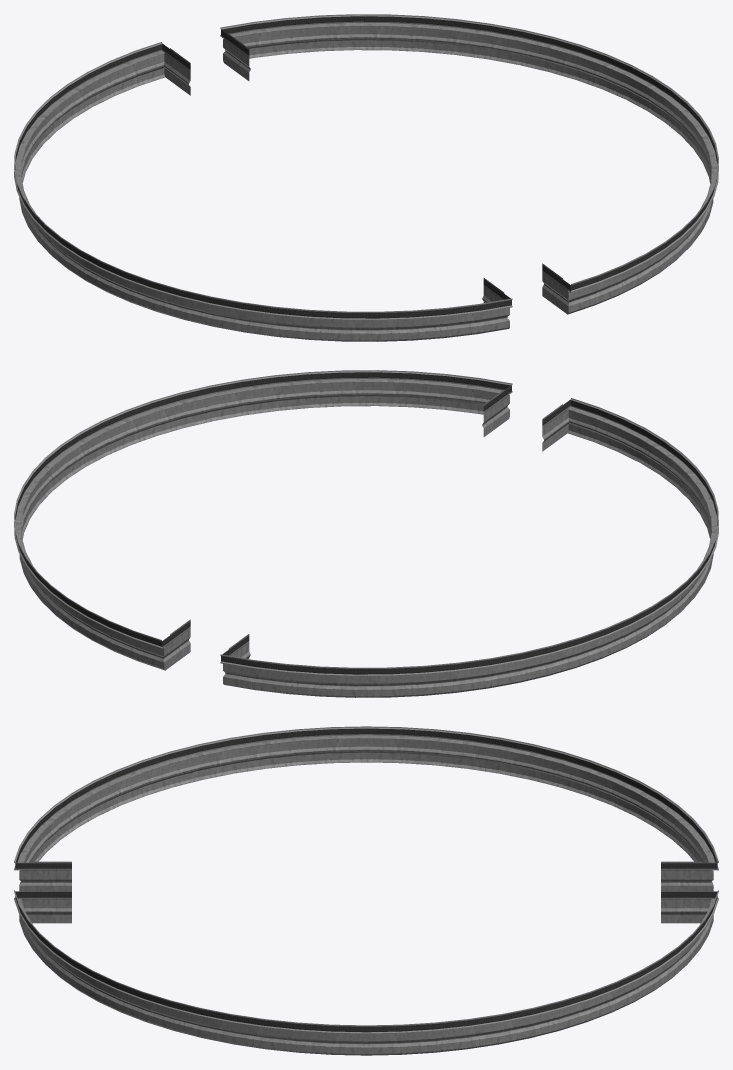
File: CentralArea_WallsTop.fbx
3 renders of one model, top to bottom at view 1: azimuth 30°, elevation 25°; view 2: azimuth 150°, elevation 25°; view 3: azimuth 270°, elevation 25°, orthographic.
Parts seen in each view (by area): view 1: CentralArea_WallsTop; view 2: CentralArea_WallsTop; view 3: CentralArea_WallsTop.
Part boxes in pixels (<box>): CentralArea_WallsTop: <box>14,14,718,341</box>; CentralArea_WallsTop: <box>14,370,718,697</box>; CentralArea_WallsTop: <box>14,726,718,1055</box>.
Bounding box in the file's own units: 34.91 × 1.79 × 34.74.
